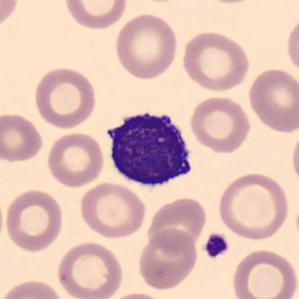Lymphocyte: (102, 104, 198, 192)
Platelets: (203, 232, 230, 260)
RBC: (215, 170, 291, 242), (112, 11, 180, 81), (179, 29, 252, 92), (31, 64, 98, 130), (2, 186, 66, 254), (54, 239, 125, 299), (77, 180, 148, 240), (136, 227, 200, 291), (145, 194, 210, 254), (188, 94, 252, 154), (45, 130, 105, 189), (230, 247, 298, 299), (246, 66, 298, 134), (0, 110, 45, 164), (61, 0, 129, 31), (0, 277, 66, 299), (284, 13, 299, 79), (0, 0, 21, 33), (101, 290, 174, 299), (289, 126, 299, 187), (195, 0, 264, 6), (0, 191, 5, 252)
